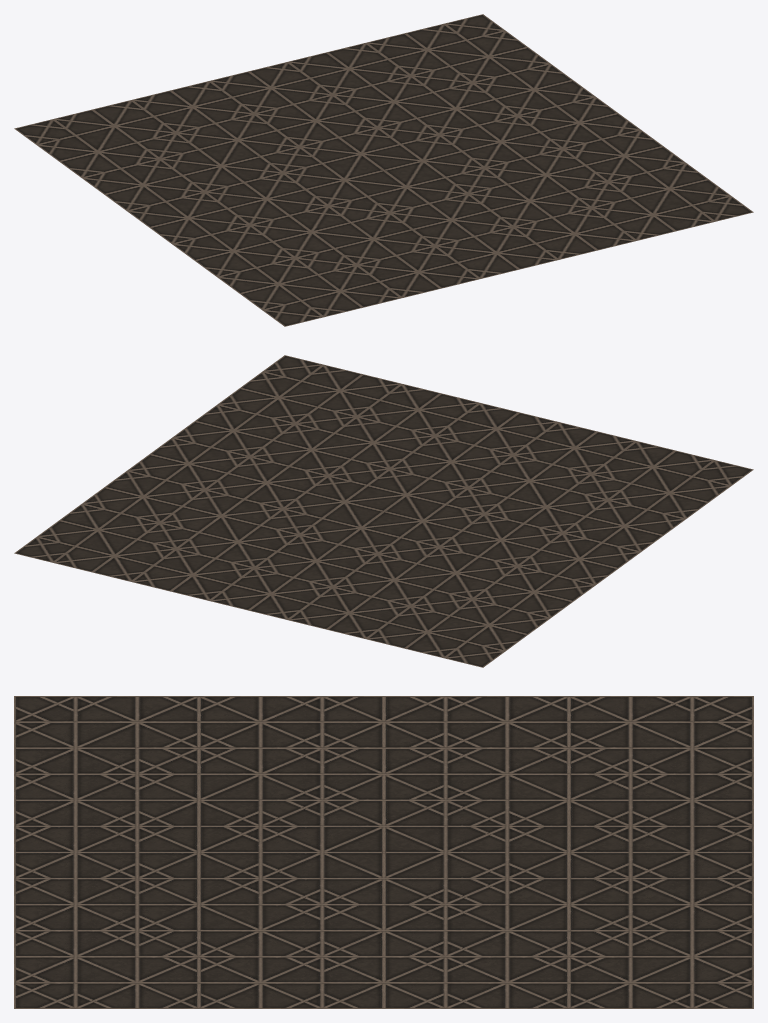
Rendered from CeIling_24m.fbx.
The picture shows the model from 3 angles, top to bottom: view 1: azimuth 30°, elevation 25°; view 2: azimuth 150°, elevation 25°; view 3: azimuth 270°, elevation 25°; orthographic projection. The views are drawn at different scales.
Parts seen in each view (by area): view 1: Ceiling_24m; view 2: Ceiling_24m; view 3: Ceiling_24m.
Boxes of the visible parts, x1=… form: Ceiling_24m: x1=14, y1=14, x2=753, y2=326; Ceiling_24m: x1=14, y1=355, x2=753, y2=667; Ceiling_24m: x1=14, y1=696, x2=753, y2=1008.
Bounding box in the file's own units: 2400 × 0 × 2400.
